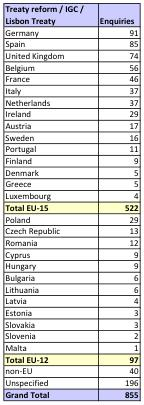table: (4, 4, 137, 399)
table column: (4, 4, 90, 399), (90, 4, 137, 399)
table column header: (4, 4, 137, 26)
table row: (4, 4, 137, 26), (4, 26, 137, 38), (4, 49, 137, 61), (4, 61, 137, 73), (4, 84, 137, 96), (4, 96, 137, 108), (4, 119, 137, 131), (4, 131, 137, 143), (4, 143, 137, 155), (4, 166, 137, 178), (4, 178, 137, 190), (4, 201, 137, 213), (4, 213, 137, 225), (4, 236, 137, 248), (4, 248, 137, 260), (4, 271, 137, 283), (4, 283, 137, 295), (4, 306, 137, 318), (4, 318, 137, 330), (4, 330, 137, 342), (4, 353, 137, 365), (4, 365, 137, 377), (4, 38, 137, 49), (4, 73, 137, 84), (4, 108, 137, 119), (4, 155, 137, 166), (4, 190, 137, 201), (4, 225, 137, 236), (4, 260, 137, 271), (4, 295, 137, 306), (4, 342, 137, 353), (4, 377, 137, 388), (4, 388, 137, 399)
